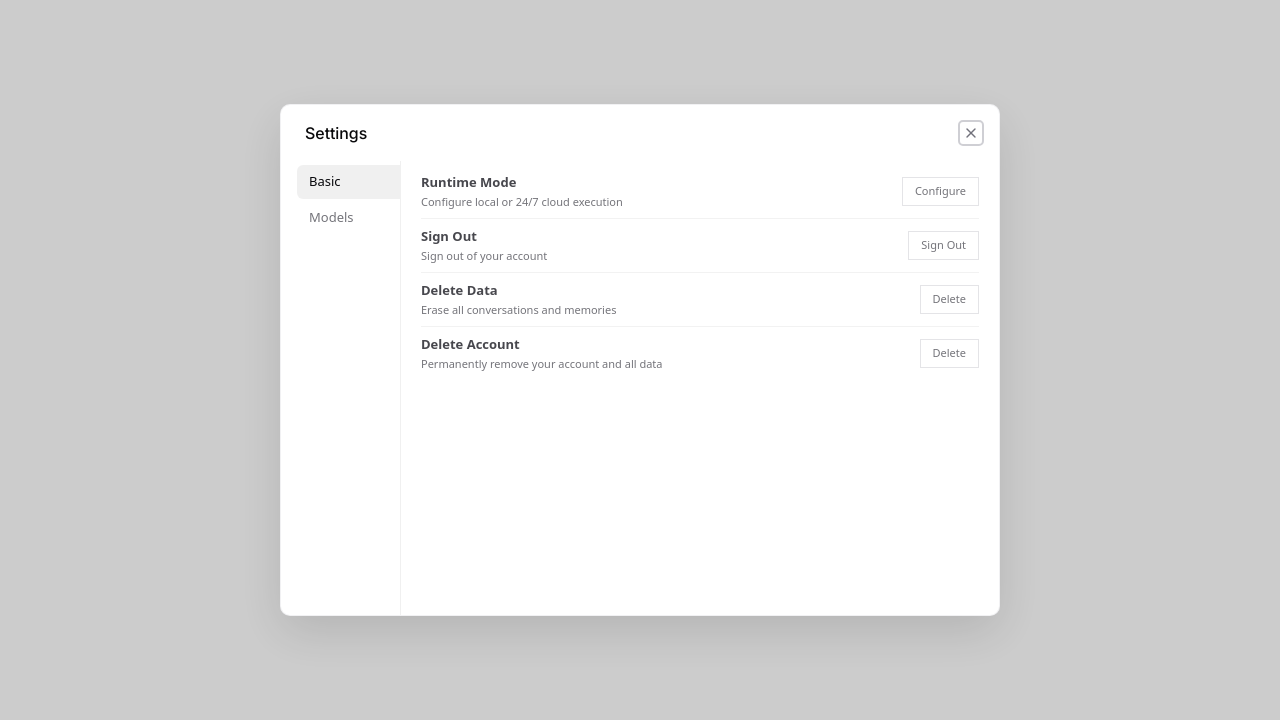
it: Tab switching › switches back to Basic tab from Models
What coordinates should you click on to do the following:
click the button "Models"
I would click on:
 (348, 217)
Its box is [297,200,400,234].
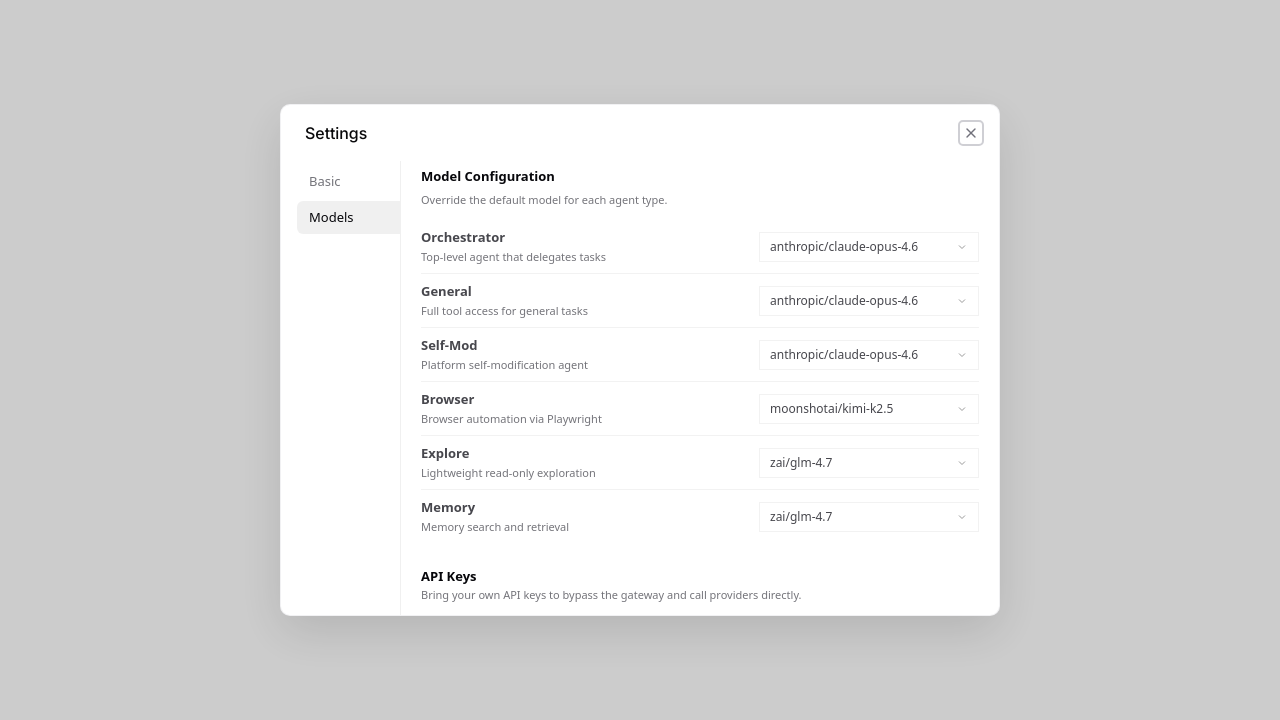
Check: the text "Runtime Mode" is gone
What coordinates should you click on to do the following:
click the button "Basic"
I would click on:
 (348, 182)
Its box is [297,165,400,198].
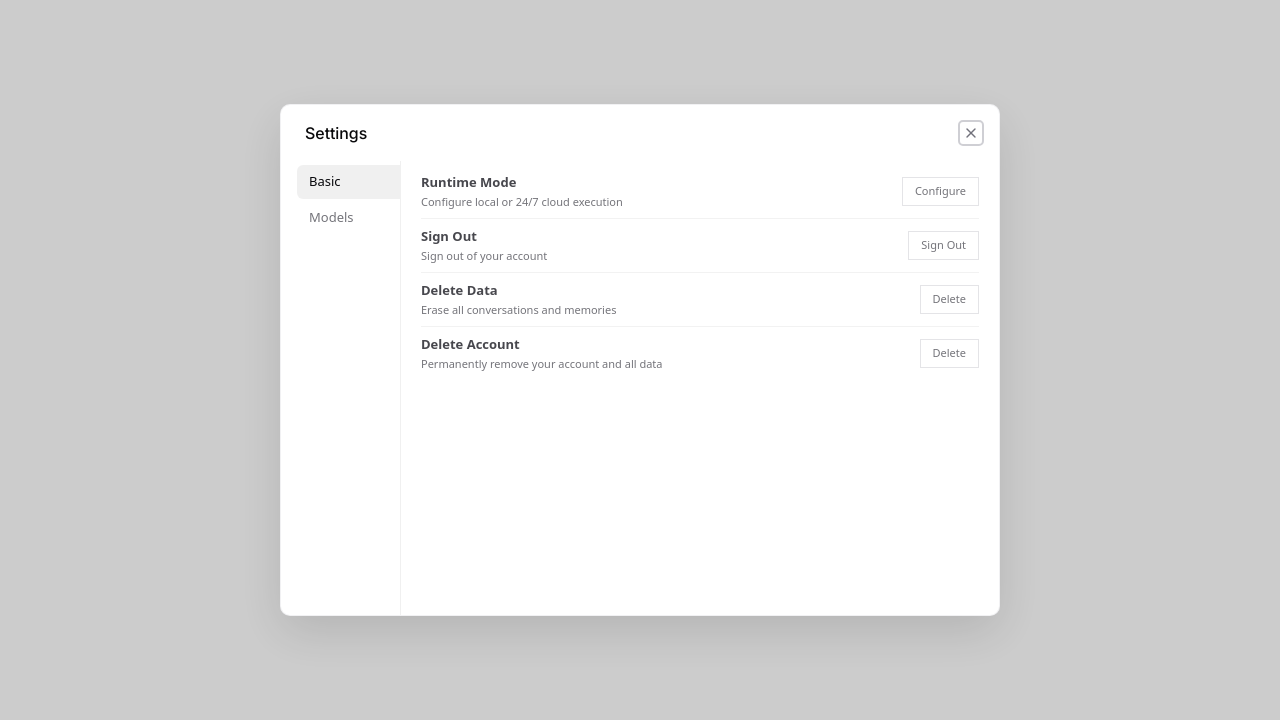
Check: the text "Runtime Mode" is shown, box [421,173,516,191]
Check: the heading "Model Configuration" is gone
